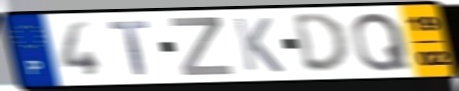4: (57, 20, 105, 80)
D: (289, 11, 353, 76)
K: (230, 16, 287, 75)
Q: (350, 11, 413, 74)
T: (106, 19, 152, 77)
Z: (167, 15, 237, 78)
